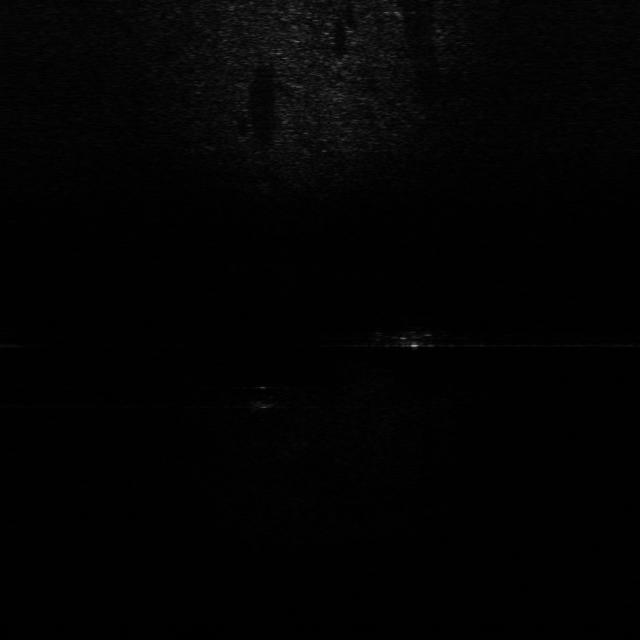ball: (243, 381, 287, 410)
human body: (366, 321, 456, 354)
